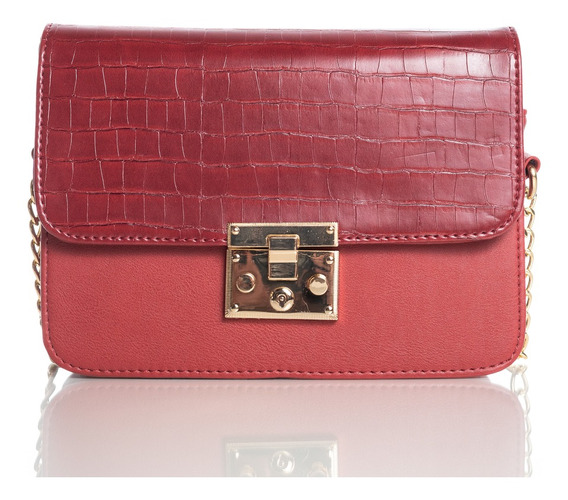cartera: (27, 20, 544, 381)
